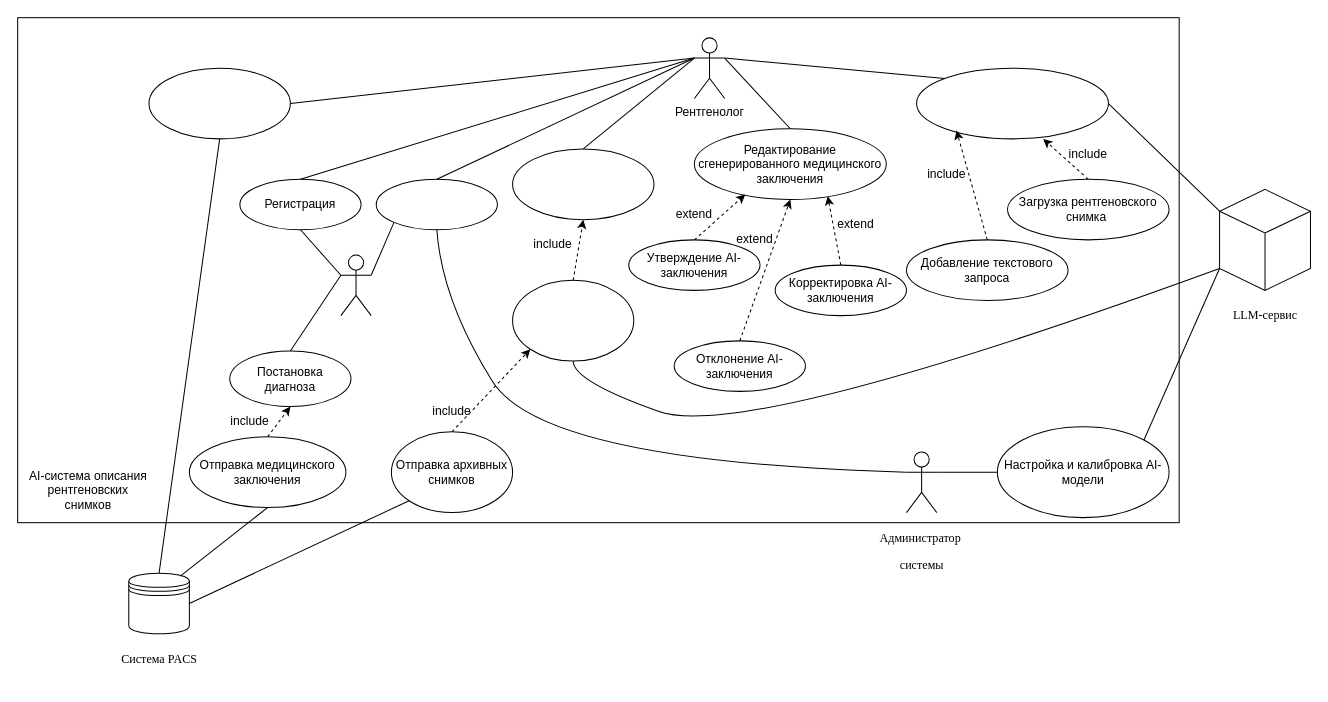
This 1328x702 diagram has some shape labels left out. Each missing label, with the box of its shape:
Вход в систему: (375, 178, 497, 230)
Генерирование сравнительного отчёта: (512, 279, 634, 361)
Лечащий врач: (340, 254, 371, 316)
Получение сгенерированного заключения: (916, 67, 1108, 139)
Сохранение медицинского заключения: (148, 67, 290, 139)
Сравнение с предыдущими снимками пациента: (512, 148, 654, 220)
